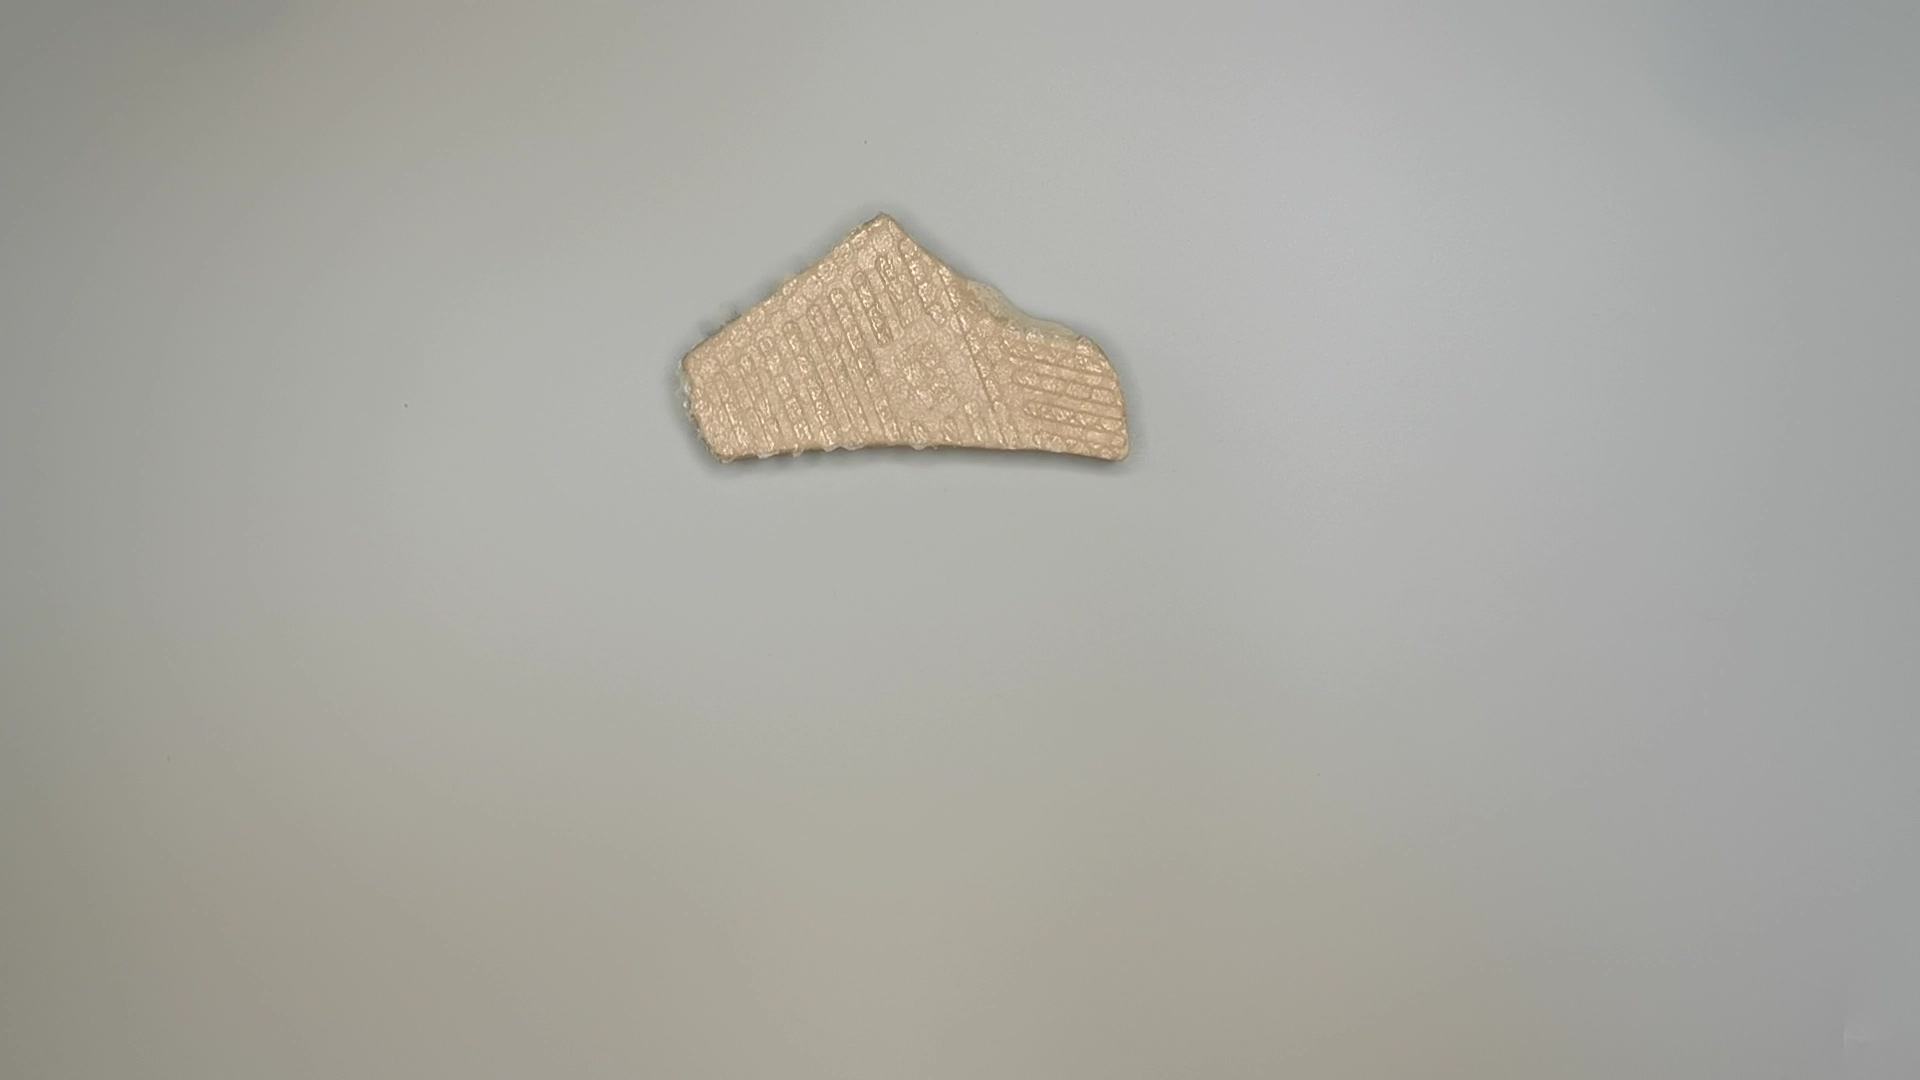ceramic: (680, 212, 1138, 475)
